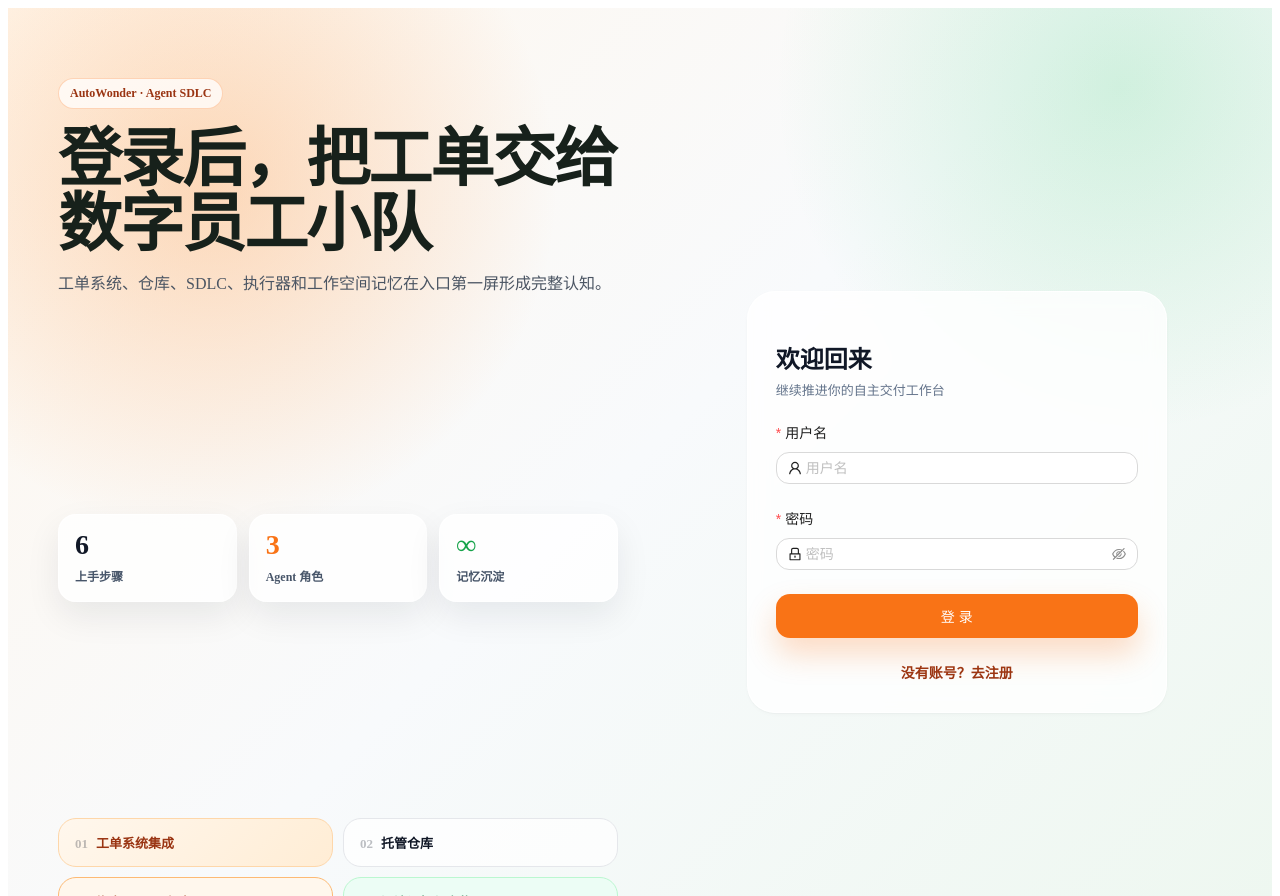
it: LoginPage › shows error message on login failure
Type "bob" into the field labelled "用户名" at (966, 468), box [806, 457, 1126, 479]
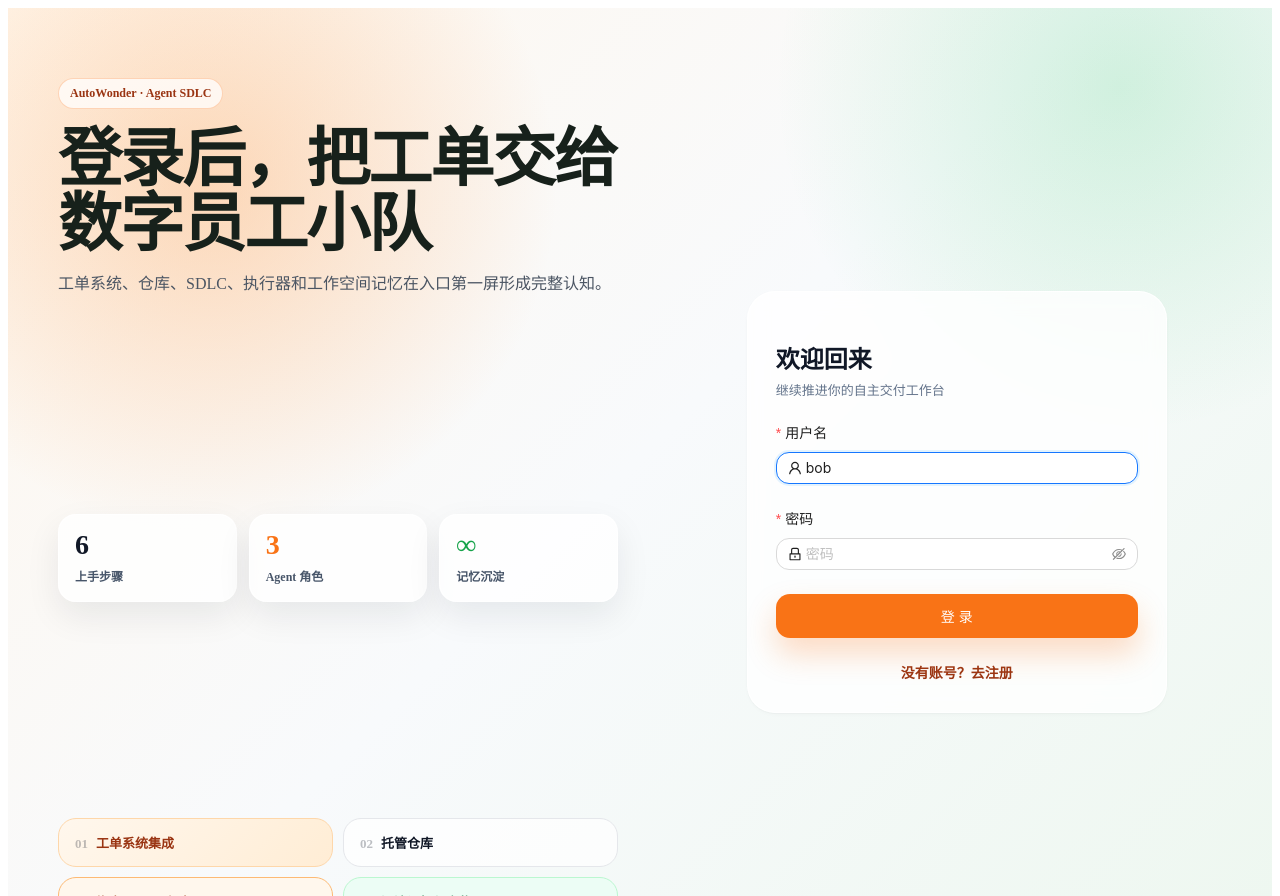
Type "wrong" into the password field labelled "密码" at (957, 554), box [806, 543, 1108, 565]
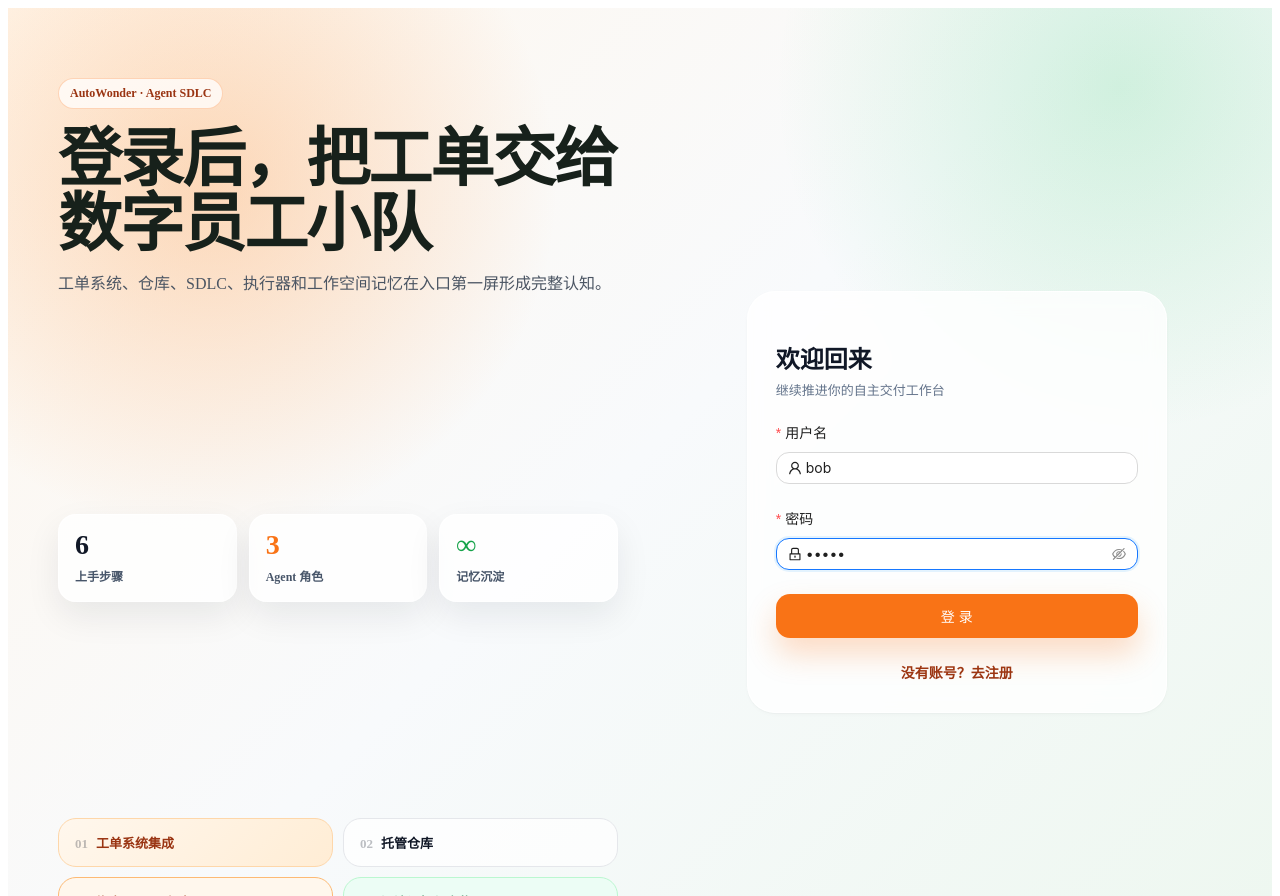
Click the button "登 录" at (957, 616), box [776, 594, 1138, 638]
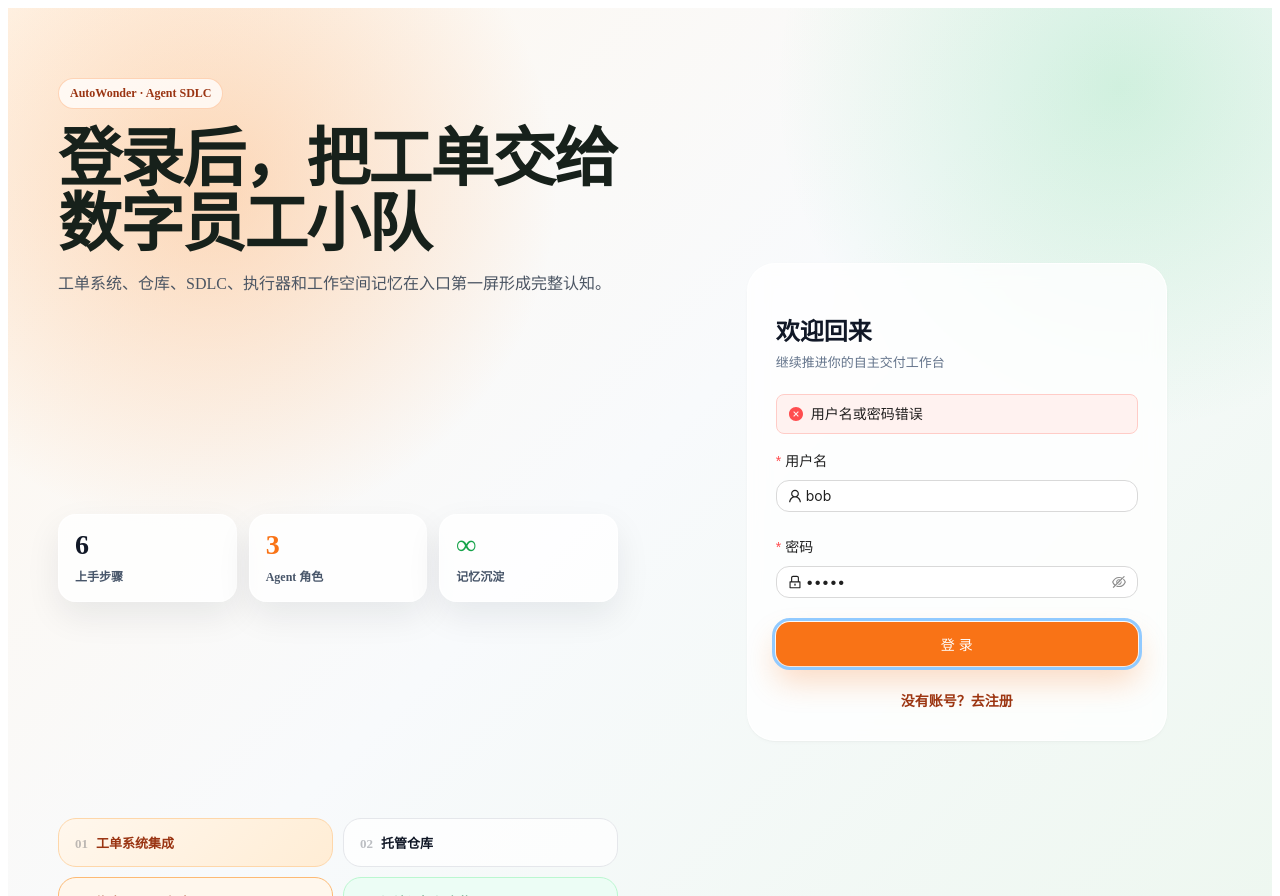
Expected: the text "用户名或密码错误" is shown, [811, 405, 923, 422]
